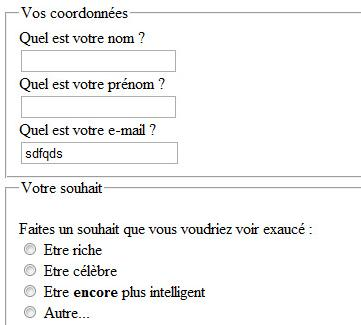field: (19, 140, 179, 166), (20, 48, 177, 74), (19, 94, 178, 119)
field_with_label: (19, 31, 179, 77), (18, 123, 181, 167), (18, 78, 180, 119)
radio: (22, 241, 38, 259), (22, 263, 40, 279), (23, 282, 39, 300), (23, 304, 39, 320)
radio_with_label: (21, 280, 207, 301), (20, 261, 118, 280), (19, 239, 101, 259), (20, 302, 90, 321)
